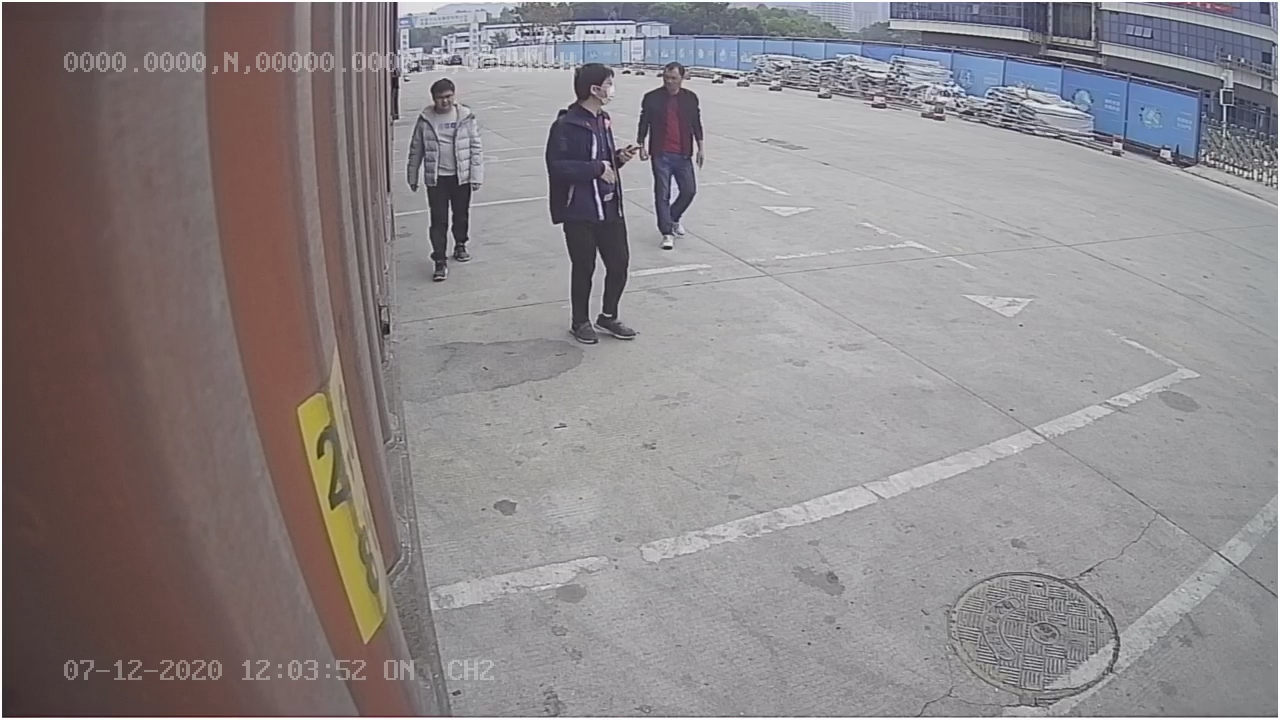person: (541, 61, 637, 351)
